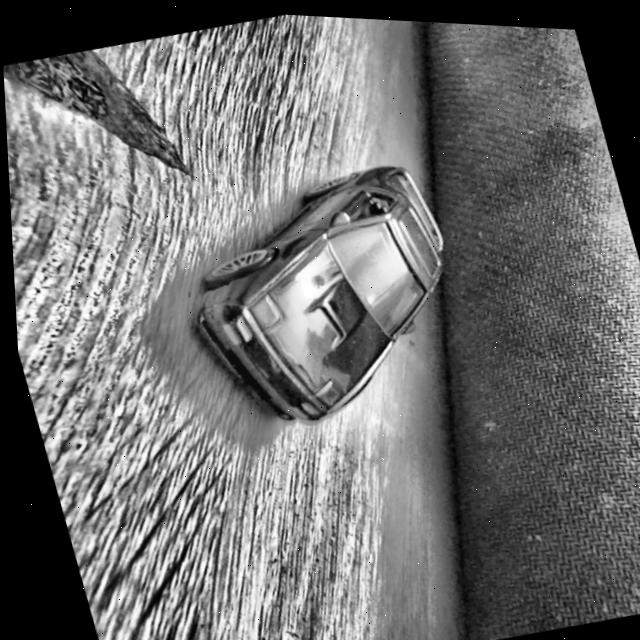car: (156, 143, 484, 447)
